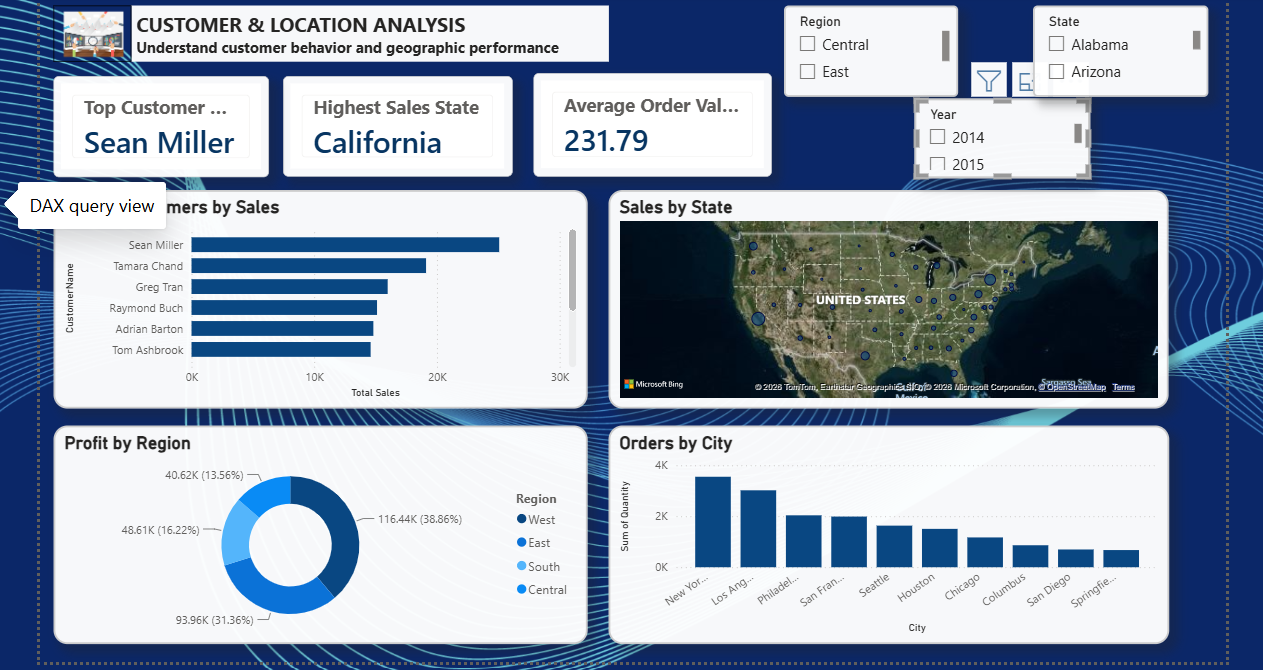

The dashboard page shown, as its layout file describes it:
{"tool":"powerbi","page":{"name":"Customer & Location Analysis","canvas":[1280,720],"ordinal":2},"visuals":[{"type":"textbox","box":[98.6,11.1,515.4,60.4],"z":0},{"type":"image","box":[14.3,11.1,84.3,60.4],"z":1000},{"type":"cardVisual","fields":{"Data":["FactSales.Average Order Value"]},"box":[532.7,84.2,257.5,111.7],"z":2000},{"type":"cardVisual","fields":{"Data":["DimLocation.Highest Sales State"]},"box":[262.3,87.4,247.7,108.5],"z":3000},{"type":"cardVisual","fields":{"Data":["DimCustomer.Top Customer Name"]},"box":[15.1,86.9,232.4,109.6],"z":4000},{"type":"clusteredBarChart","title":"Top 10 Customers by Sales","fields":{"Category":["DimCustomer.CustomerName"],"Y":["FactSales.Total Sales"]},"box":[15.1,209.8,576.4,236.2],"z":5000},{"type":"map","title":"Sales by State","fields":{"Category":["DimLocation.State"],"Size":["FactSales.Total Sales"]},"box":[614.2,209.8,604.7,236.2],"z":6000},{"type":"donutChart","title":"Profit by Region","fields":{"Category":["DimLocation.Region"],"Y":["FactSales.Total Profit"]},"box":[15.1,464.9,576.4,236.2],"z":7000},{"type":"columnChart","title":"Orders by City","fields":{"Category":["DimLocation.City"],"Y":["Sum(FactSales.Quantity)"]},"box":[614,465,605,236],"z":8000},{"type":"slicer","fields":{"Values":["DimLocation.Region"]},"box":[803.1,11.3,187.8,98.8],"z":9000},{"type":"slicer","fields":{"Values":["DimDate.Year"]},"box":[944,111.7,189.4,85.8],"z":10000},{"type":"slicer","fields":{"Values":["DimLocation.State"]},"box":[1071.9,11.3,189.4,98.8],"z":11000}]}

Visuals, with their boxes in screenshot pixels (x1, y1, x2, y2):
textbox: (130,4,604,59)
image: (53,4,130,59)
cardVisual - FactSales.Average Order Value: (529,71,766,173)
cardVisual - DimLocation.Highest Sales State: (281,74,508,173)
cardVisual - DimCustomer.Top Customer Name: (53,73,267,174)
"Top 10 Customers by Sales" clusteredBarChart: (53,186,583,403)
"Sales by State" map: (604,186,1160,403)
"Profit by Region" donutChart: (53,421,583,638)
"Orders by City" columnChart: (604,421,1160,638)
slicer - DimLocation.Region: (778,4,950,95)
slicer - DimDate.Year: (907,96,1081,175)
slicer - DimLocation.State: (1025,4,1199,95)
